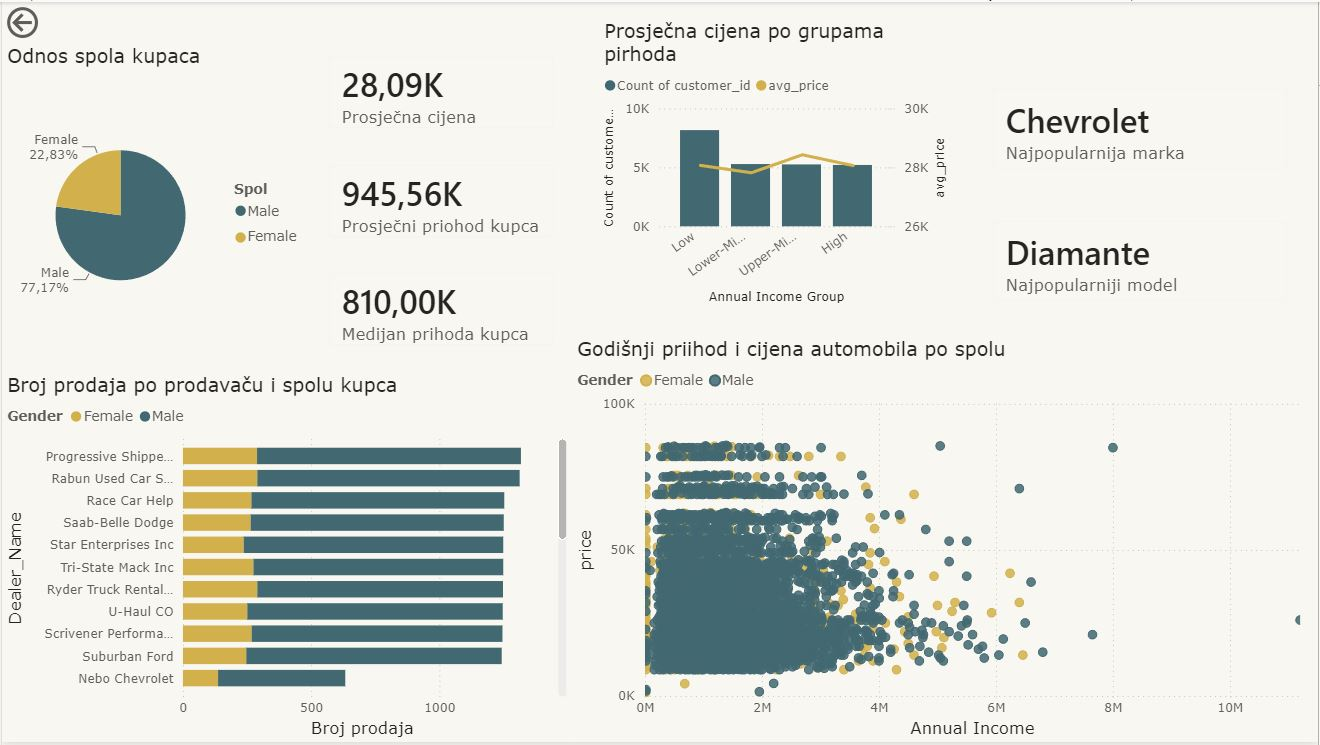

The page's visual inventory and layout, read from the dashboard file:
{"tool":"powerbi","page":{"name":"Analiza kupaca","canvas":[1280,720],"ordinal":4},"visuals":[{"type":"actionButton","box":[0,0,100,40],"z":0},{"type":"pieChart","title":"Odnos  spola kupaca","fields":{"Category":["dim_customer.Gender"],"Y":["CountNonNull(dim_customer.Gender)"]},"box":[0,39.9,300.6,312.1],"z":1000},{"type":"barChart","title":"Broj prodaja po prodavaču i spolu kupca","fields":{"Category":["dim_dealer.Dealer_Name"],"Series":["dim_customer.Gender"],"Y":["fact_sale.Broj prodaja"]},"box":[0,360,554.2,360],"z":2000},{"type":"scatterChart","title":"Godišnji priihod i cijena automobila po spolu","fields":{"X":["dim_customer.Annual Income"],"Y":["fact_sale.price"],"Series":["dim_customer.Gender"]},"box":[554.2,324.5,726.2,395.5],"z":3000},{"type":"cardVisual","fields":{"Data":["dim_customer.Prosječni priohod kupca"]},"box":[300.6,141,253.6,105.5],"z":4000},{"type":"cardVisual","fields":{"Data":["dim_customer.Medijan prihoda kupca"]},"box":[300.6,246.5,253.6,105.5],"z":5000},{"type":"cardVisual","fields":{"Data":["fact_sale.Prosječna cijena"]},"box":[300.6,35.5,253.6,105.5],"z":6000},{"type":"lineStackedColumnComboChart","title":"Prosječna cijena po grupama pirhoda","fields":{"Category":["dim_customer.Annual Income Group"],"Y":["CountNonNull(fact_sale.customer_id)"],"Y2":["fact_sale.avg_price"]},"box":[580.4,15.8,346,283.6],"z":7000},{"type":"cardVisual","fields":{"Data":["fact_sale.Najpopularnija marka"]},"box":[946.5,66.7,321.4,112.4],"z":8000},{"type":"cardVisual","fields":{"Data":["fact_sale.Najpopularniji model"]},"box":[946.5,195.8,321.4,112.4],"z":9000}]}

Visuals, with their boxes in screenshot pixels (x1, y1, x2, y2), scaled from the page's 1280x720 canvas onto the 1320x745 screenshot:
actionButton: bbox(0, 0, 103, 41)
"Odnos  spola kupaca" pieChart: bbox(0, 41, 310, 364)
"Broj prodaja po prodavaču i spolu kupca" barChart: bbox(0, 373, 572, 744)
"Godišnji priihod i cijena automobila po spolu" scatterChart: bbox(572, 336, 1319, 744)
cardVisual - dim_customer.Prosječni priohod kupca: bbox(310, 146, 572, 255)
cardVisual - dim_customer.Medijan prihoda kupca: bbox(310, 255, 572, 364)
cardVisual - fact_sale.Prosječna cijena: bbox(310, 37, 572, 146)
"Prosječna cijena po grupama pirhoda" lineStackedColumnComboChart: bbox(599, 16, 955, 310)
cardVisual - fact_sale.Najpopularnija marka: bbox(976, 69, 1308, 185)
cardVisual - fact_sale.Najpopularniji model: bbox(976, 203, 1308, 319)
